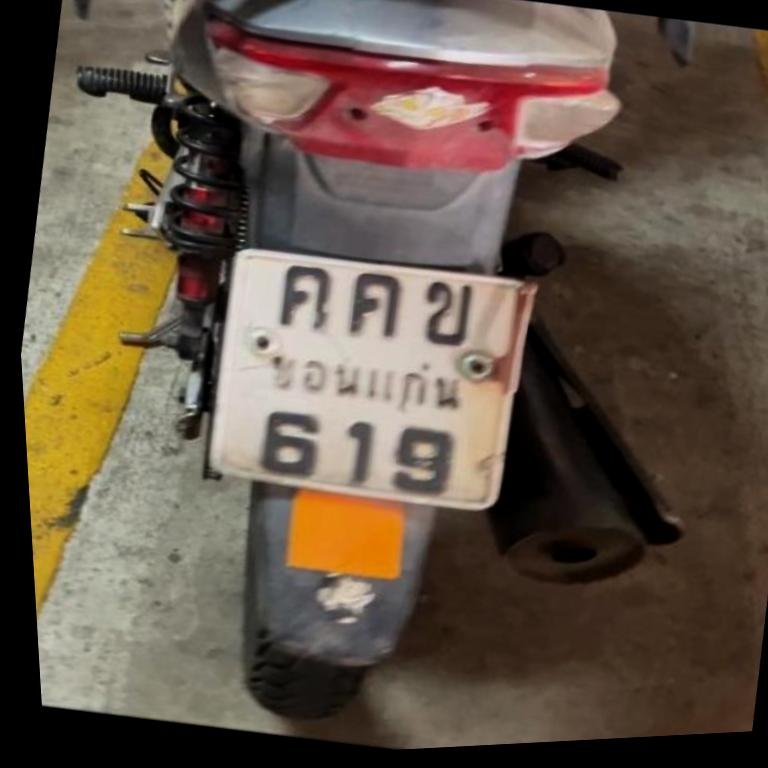license plate: (182, 218, 552, 546)
